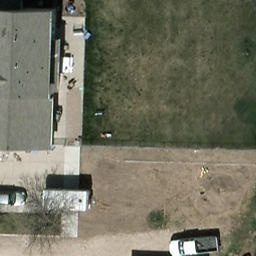camping car: (43, 191, 88, 212)
car: (0, 190, 28, 205)
